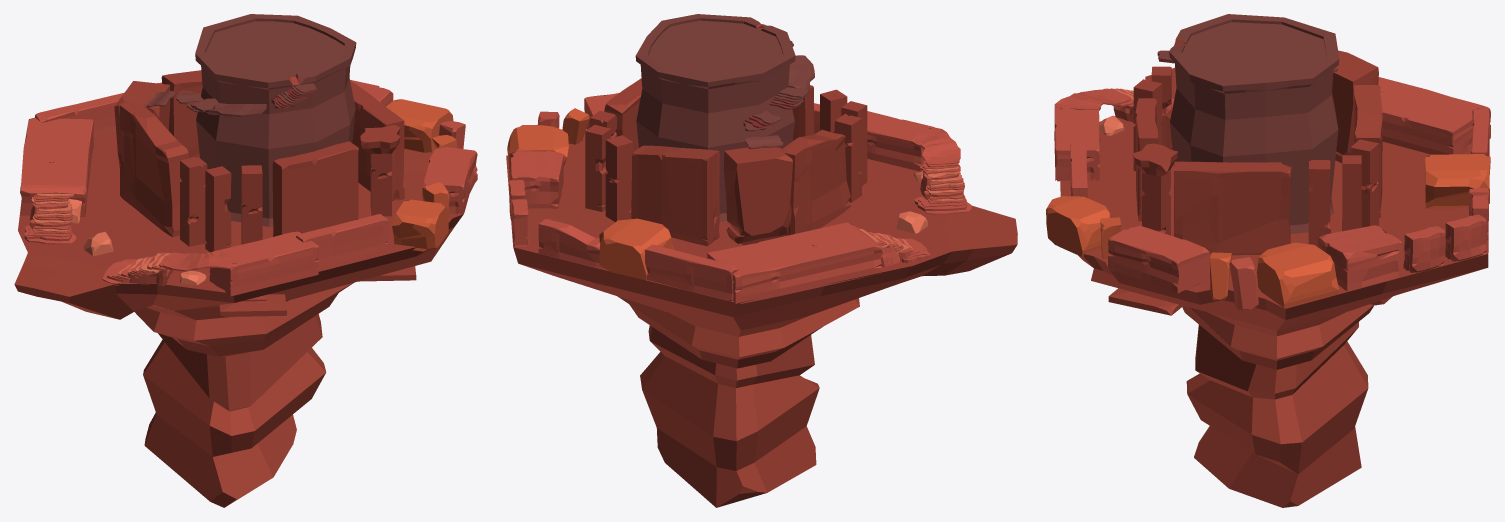
Rendered from Parte_derecha_Nivel_1.fbx.
The picture shows the model from 3 angles, left to right: view 1: azimuth 30°, elevation 25°; view 2: azimuth 150°, elevation 25°; view 3: azimuth 270°, elevation 25°; orthographic projection. The views are drawn at different scales.
Visible parts, largest first — view 1: base, roca 1.006, roca 1.008, roca 2.002, roca 2.001, Cube.070, roca 1.001, roca 1.007, Cube.072, roca 2.003, roca 3.003, Cube.071 (+9 smaller); view 2: base, roca 2.002, roca 1.009, roca 3.004, roca 1.008, roca 1.002, roca 3.001, roca 2.001, roca 2.004, Cube.067, roca 1.003, Cube.066 (+10 smaller); view 3: base, roca 1.007, roca 2.002, roca 2.003, roca 3.002, roca 2.004, Cube.072, roca 3.001, roca 3.003, roca 2.001, roca 3.004, roca 1.009 (+15 smaller).
Part boxes in pixels (x1,y1,x2,y2): base: (14, 14, 462, 507); roca 1.006: (272, 141, 358, 236); roca 1.008: (120, 103, 188, 237); roca 2.002: (20, 118, 93, 217); roca 2.001: (209, 231, 318, 296); Cube.070: (219, 165, 286, 316); roca 1.001: (296, 214, 387, 266); roca 1.007: (350, 81, 404, 201); Cube.072: (358, 125, 416, 281); roca 2.003: (422, 147, 477, 214); roca 3.003: (392, 199, 448, 251); Cube.071: (180, 157, 207, 246); base: (506, 14, 1017, 507); roca 2.002: (707, 222, 881, 304); roca 1.009: (631, 145, 719, 246); roca 3.004: (723, 147, 792, 245); roca 1.008: (782, 129, 850, 235); roca 1.002: (645, 244, 739, 300); roca 3.001: (599, 218, 674, 280); roca 2.001: (867, 111, 935, 171); roca 2.004: (509, 151, 564, 208); Cube.067: (605, 135, 633, 222); roca 1.003: (538, 219, 607, 286); Cube.066: (585, 124, 610, 211); base: (1060, 14, 1489, 507); roca 1.007: (1173, 161, 1291, 255); roca 2.002: (1378, 77, 1490, 154); roca 2.003: (1108, 225, 1210, 293); roca 3.002: (1257, 242, 1339, 308); roca 2.004: (1318, 225, 1403, 291); Cube.072: (1108, 143, 1183, 315); roca 3.001: (1425, 154, 1490, 208); roca 3.003: (1046, 196, 1111, 256); roca 2.001: (1054, 104, 1100, 181); roca 3.004: (1332, 50, 1378, 163); roca 1.009: (1354, 85, 1382, 217).
Bounding box in the file's own units: 45247 × 38412 × 34132.
